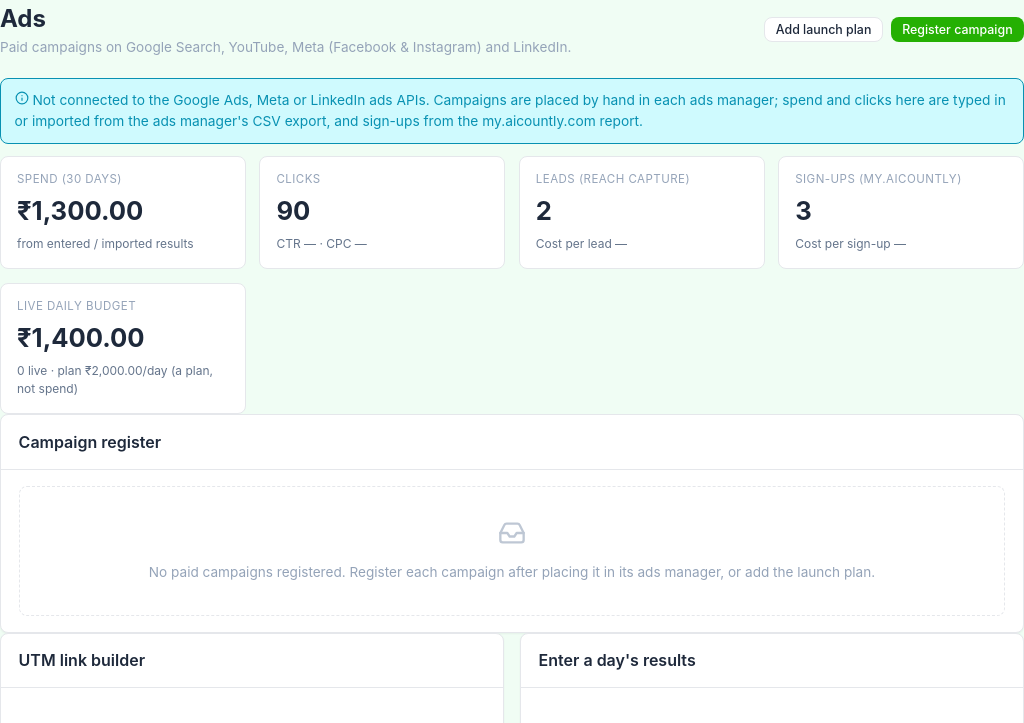
Test: Ads tiles → campaigns › spend opens the campaigns with spend, largest first, each linking to its days
Click the button with test id "tile-spend" at (123, 212), box x1=0 y1=156 x2=246 y2=269
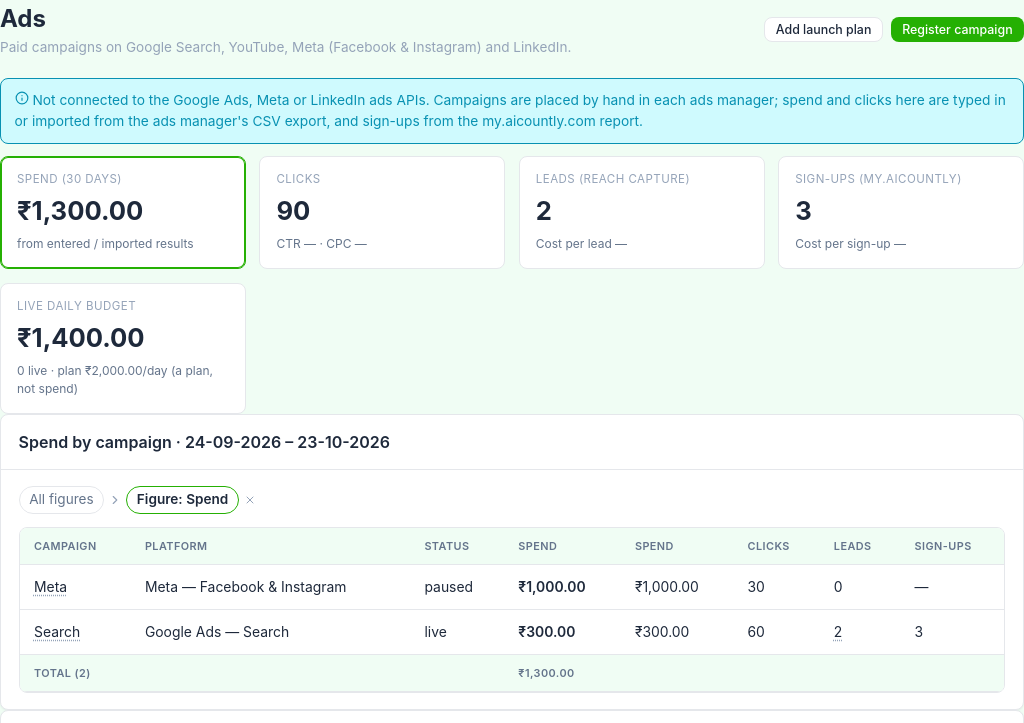
Now the row "Total (2) ₹1,300.00" is shown, box x1=20 y1=655 x2=1004 y2=692
